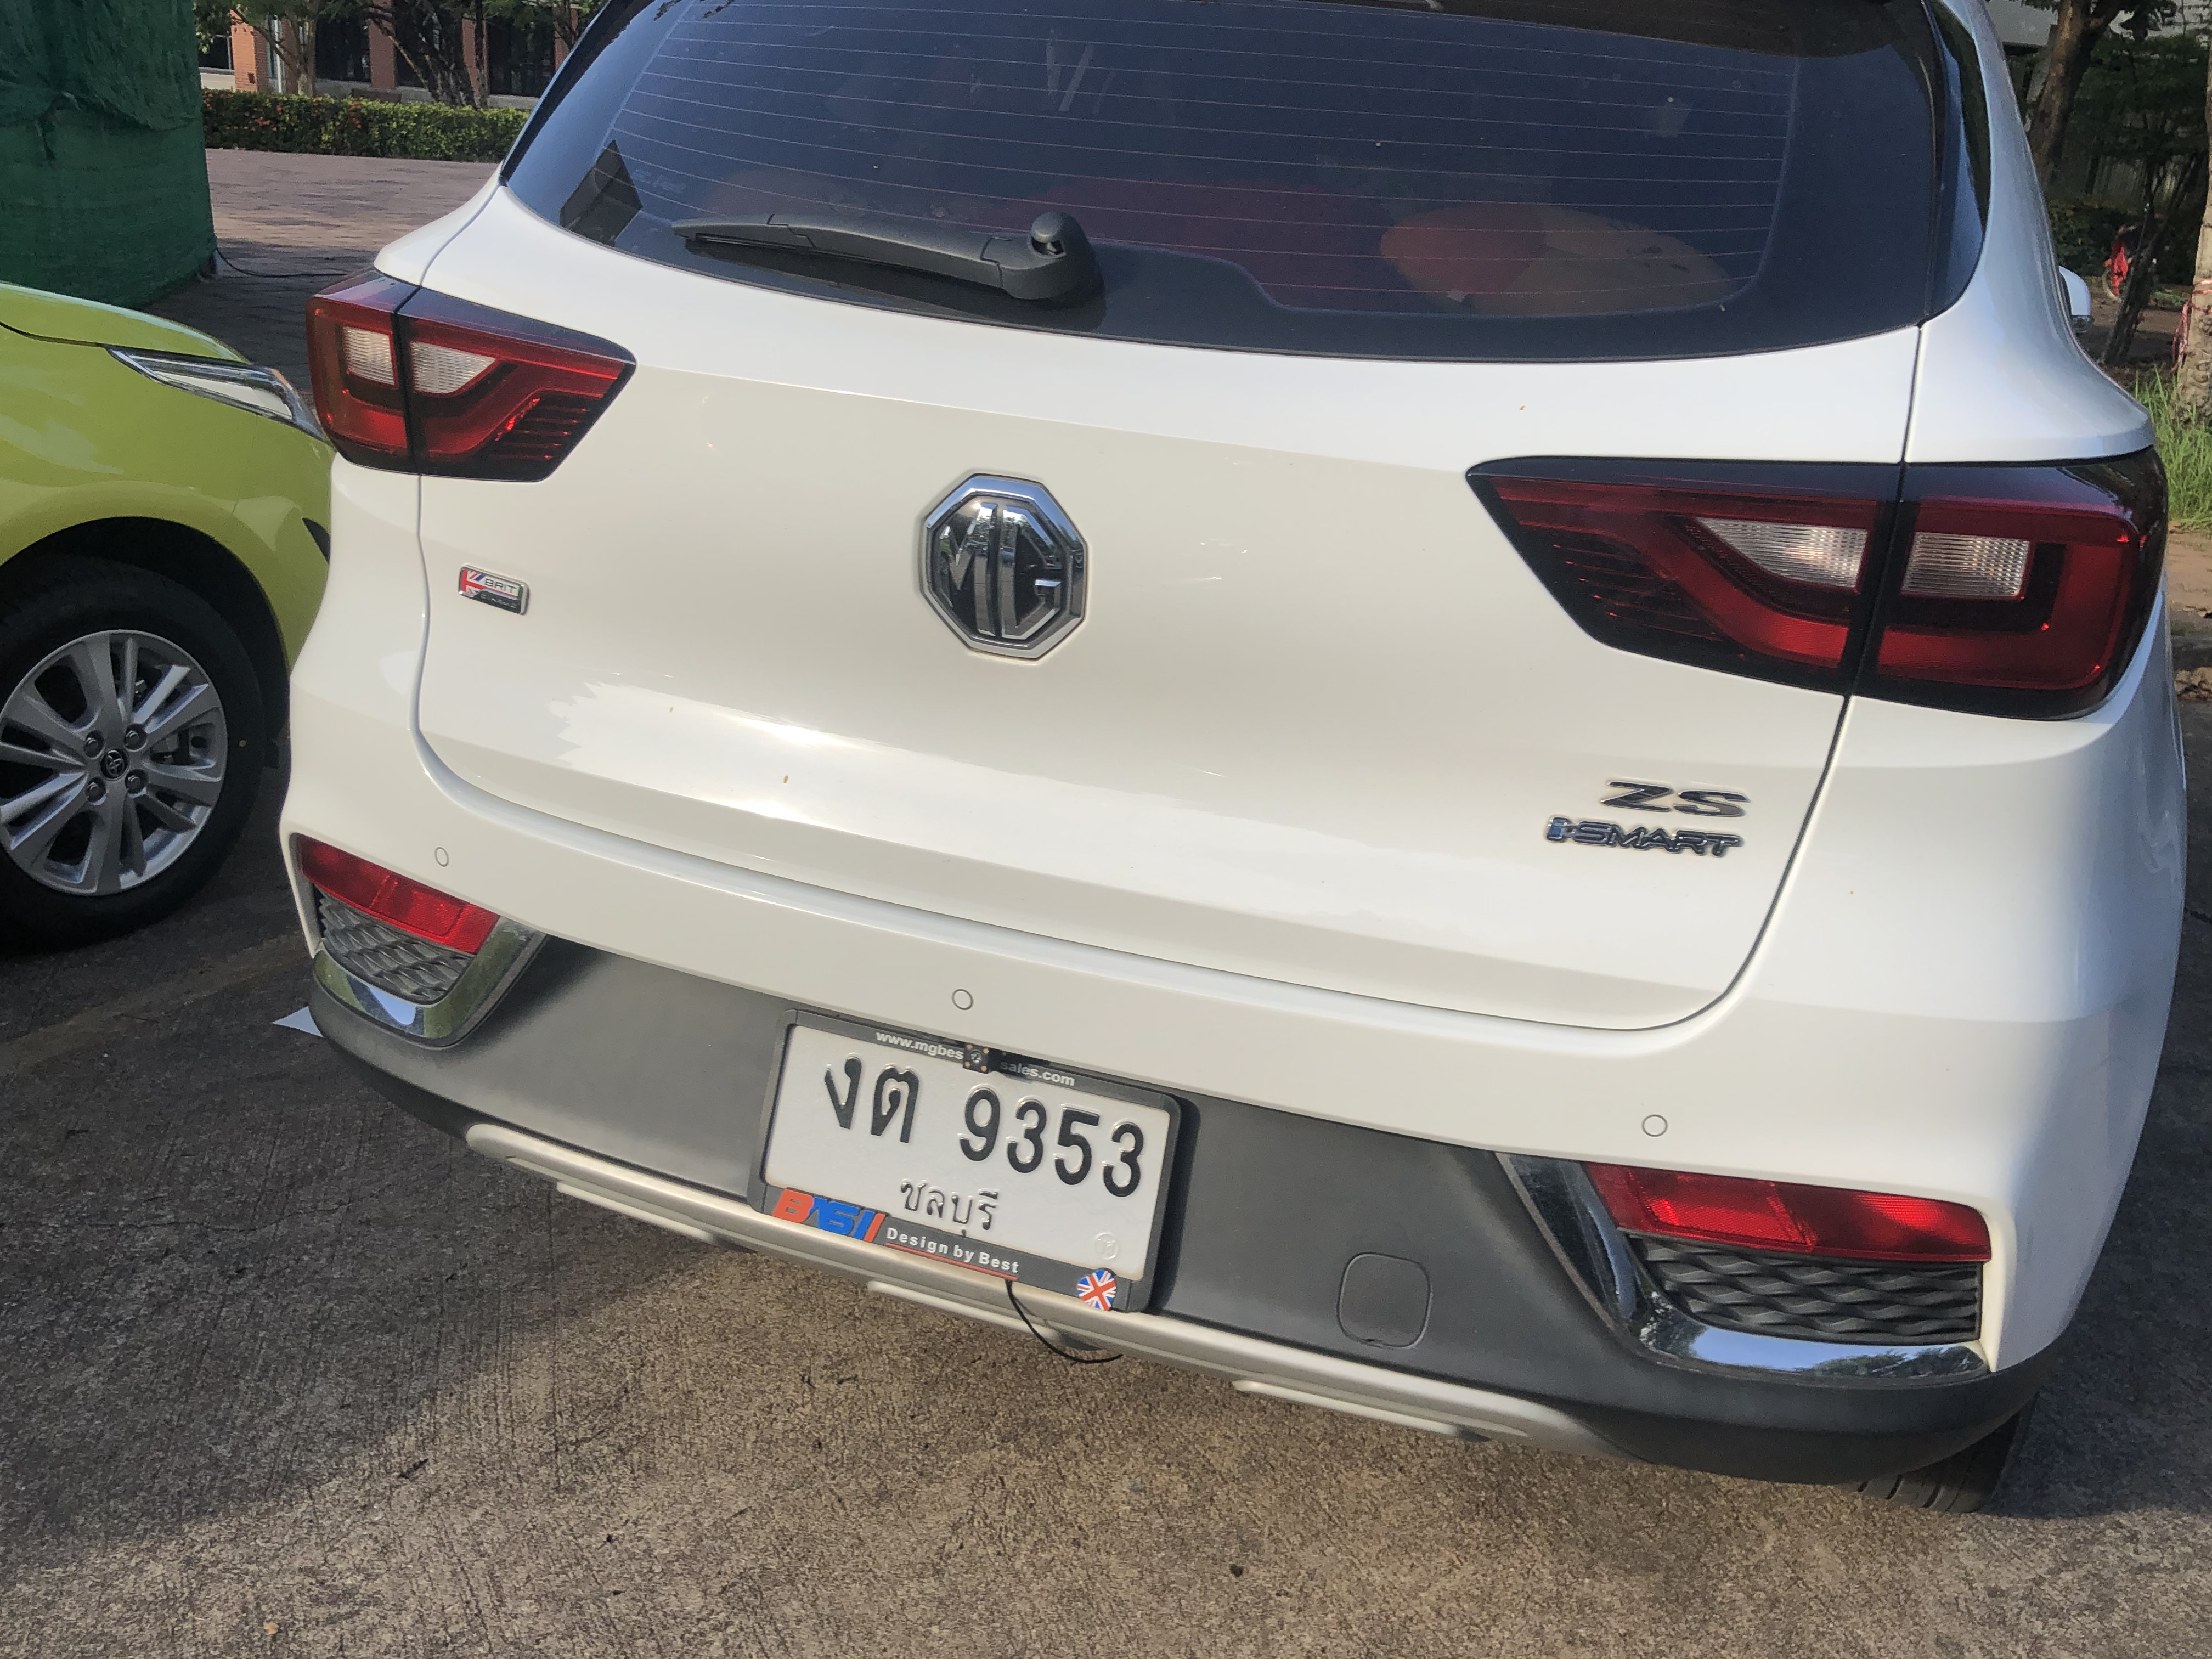in: (763, 1021, 1165, 1286)
out: (745, 1004, 1188, 1314)
